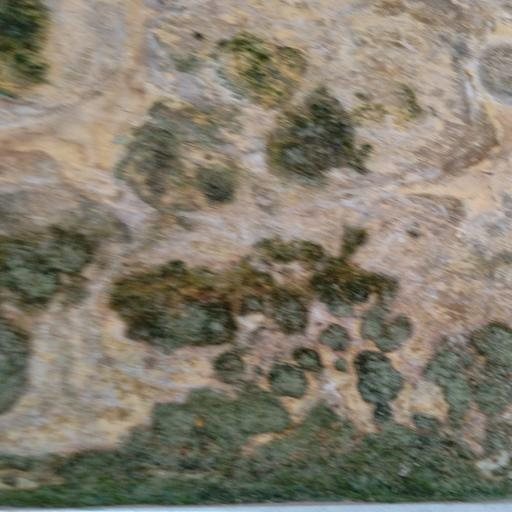algae: (0, 27, 512, 512)
